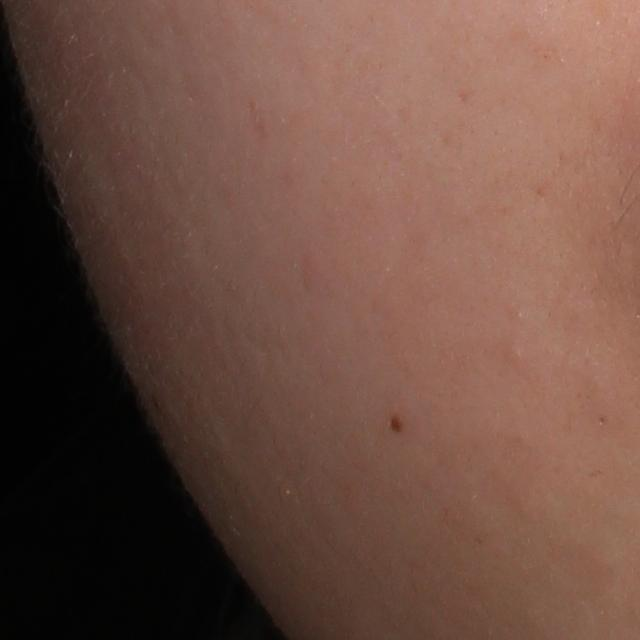comedo: (498, 345, 529, 366)
nevus: (388, 411, 407, 434)
